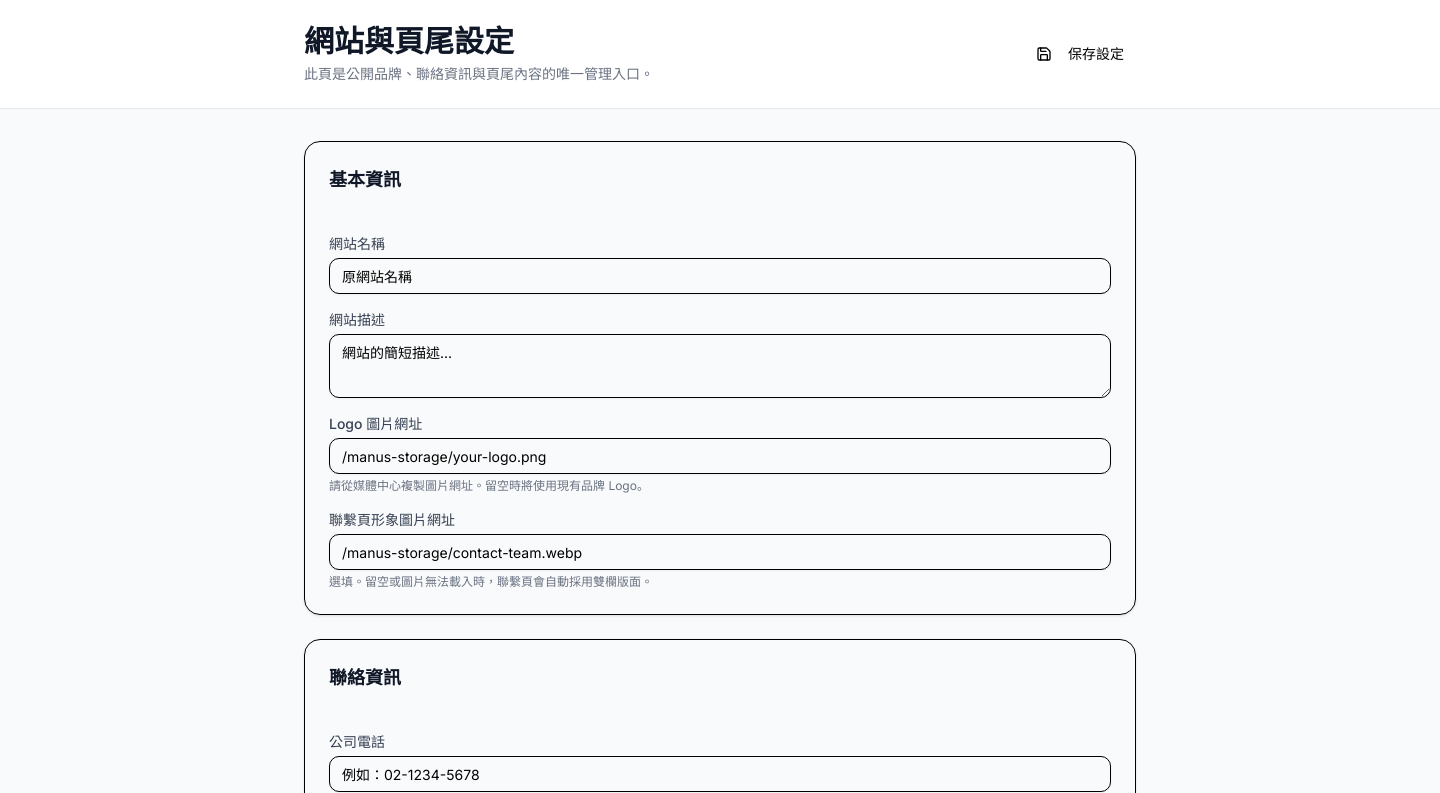
Test: CMSSettings 批次儲存回饋 › 批次儲存成功時顯示成功訊息
The width and height of the screenshot is (1440, 793).
Click the button "保存設定" at (1080, 54), box left=1024, top=36, right=1136, bottom=72
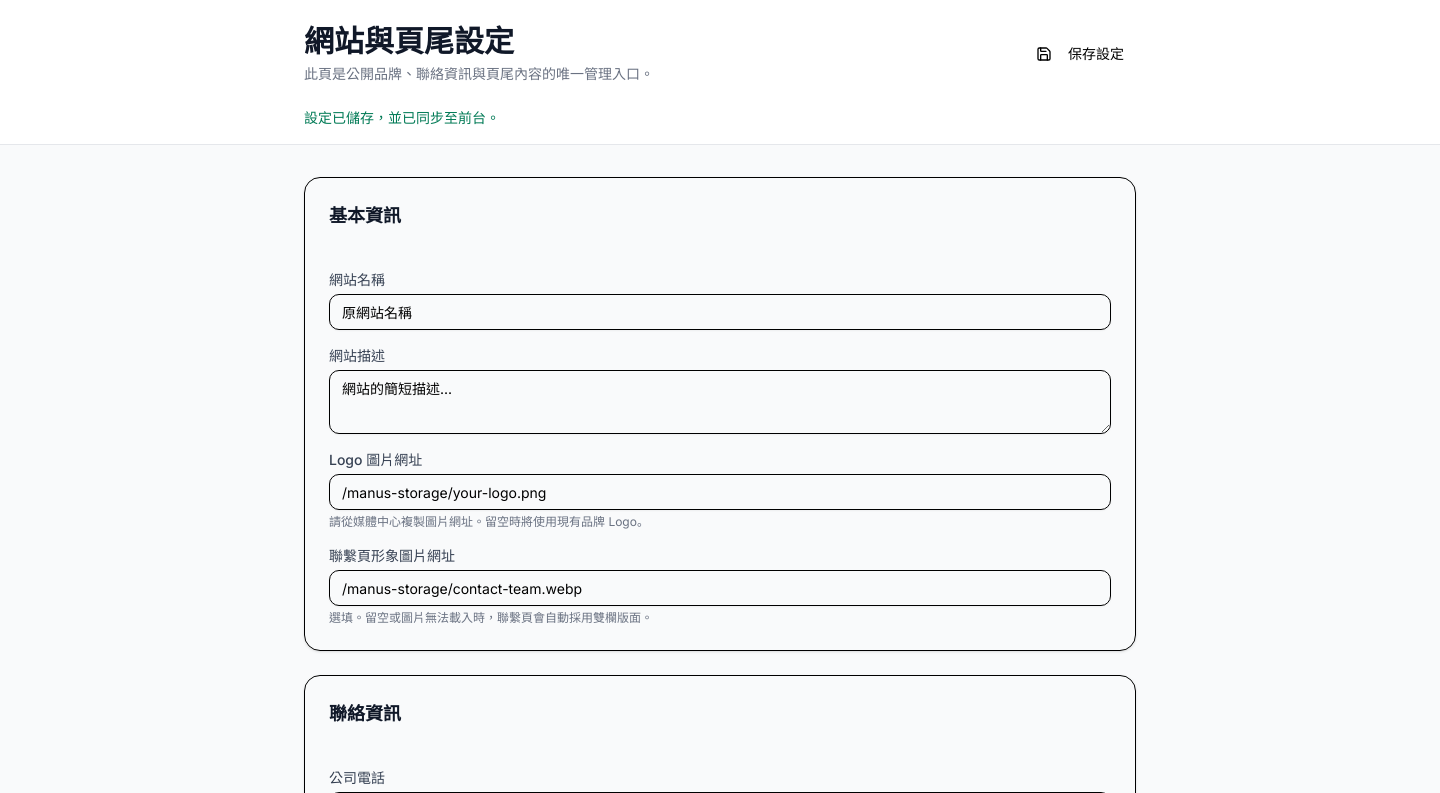
expect the message reads "設定已儲存，並已同步至前台。": met, box left=304, top=109, right=500, bottom=126
